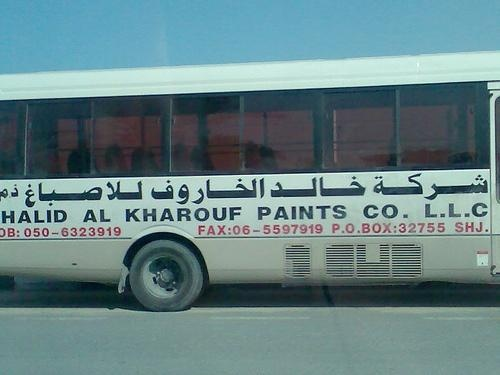bus: (2, 50, 500, 314)
